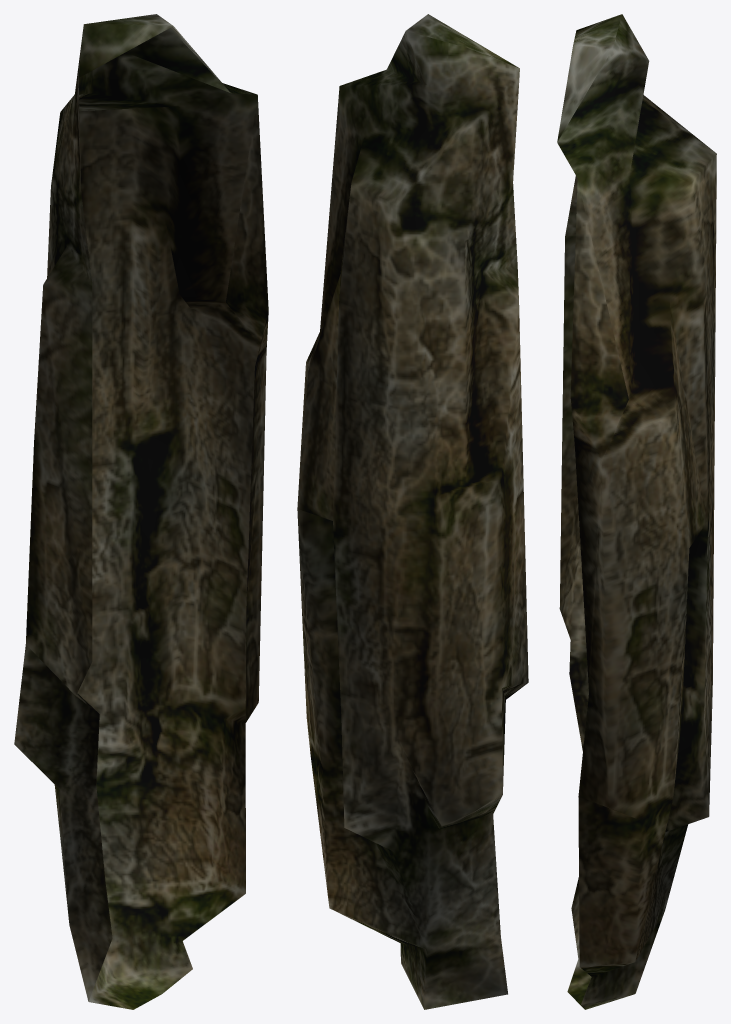
File: MEP_Rock_04_a_LOD_01.fbx
3 renders of one model, left to right at view 1: azimuth 30°, elevation 25°; view 2: azimuth 150°, elevation 25°; view 3: azimuth 270°, elevation 25°, orthographic.
Visible parts, largest first — view 1: MEP_Rock_04_a_LOD_01; view 2: MEP_Rock_04_a_LOD_01; view 3: MEP_Rock_04_a_LOD_01.
Part boxes in pixels (left/top/right/bottom): MEP_Rock_04_a_LOD_01: left=14, top=14, right=268, bottom=1009; MEP_Rock_04_a_LOD_01: left=297, top=14, right=528, bottom=1009; MEP_Rock_04_a_LOD_01: left=557, top=14, right=716, bottom=1009.
Bounding box in the file's own units: 3.61 × 14.91 × 2.23.
